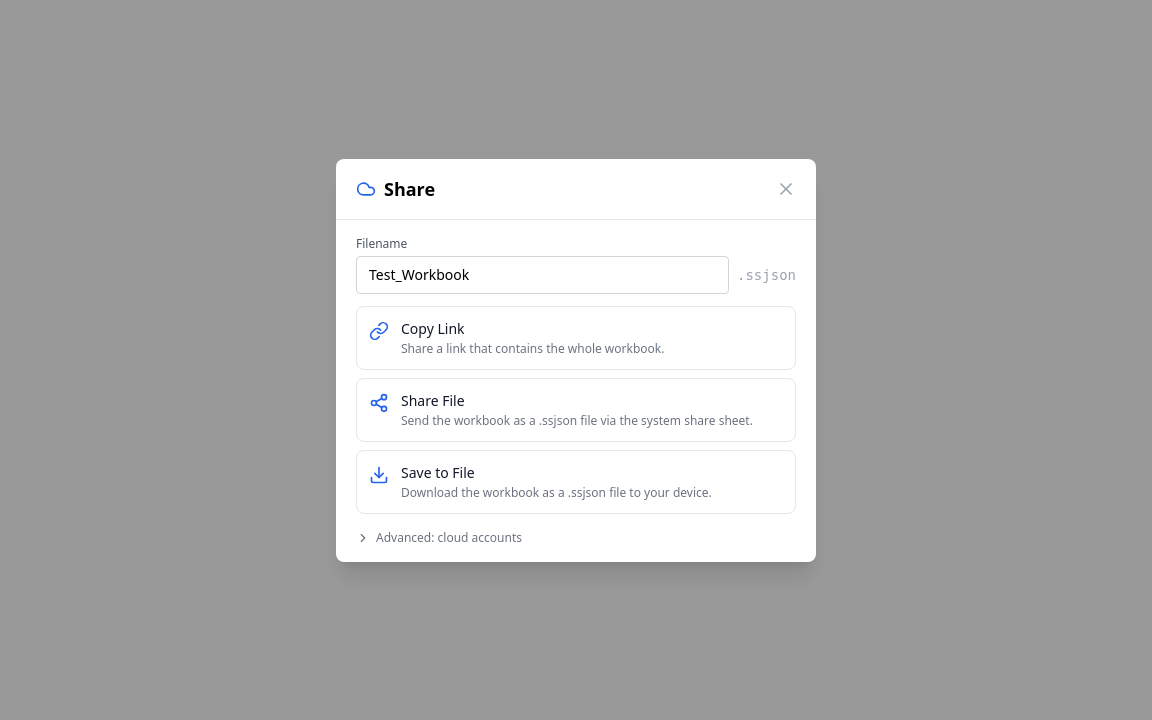
Test: CloudStorageModal › Copy Link › shows an error if clipboard write fails
Step 1. Click the text "Copy Link" → (433, 328), box [401, 318, 464, 338]
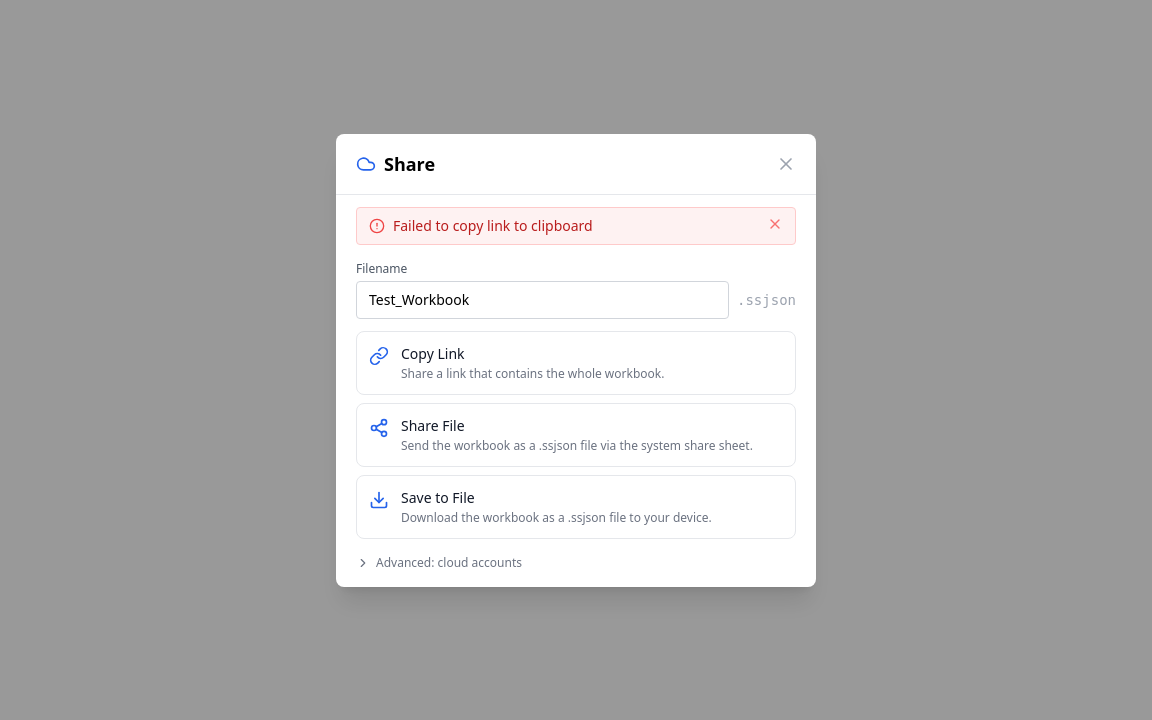
Check: the text "Failed to copy link to clipboard" is shown, box [393, 216, 593, 234]
